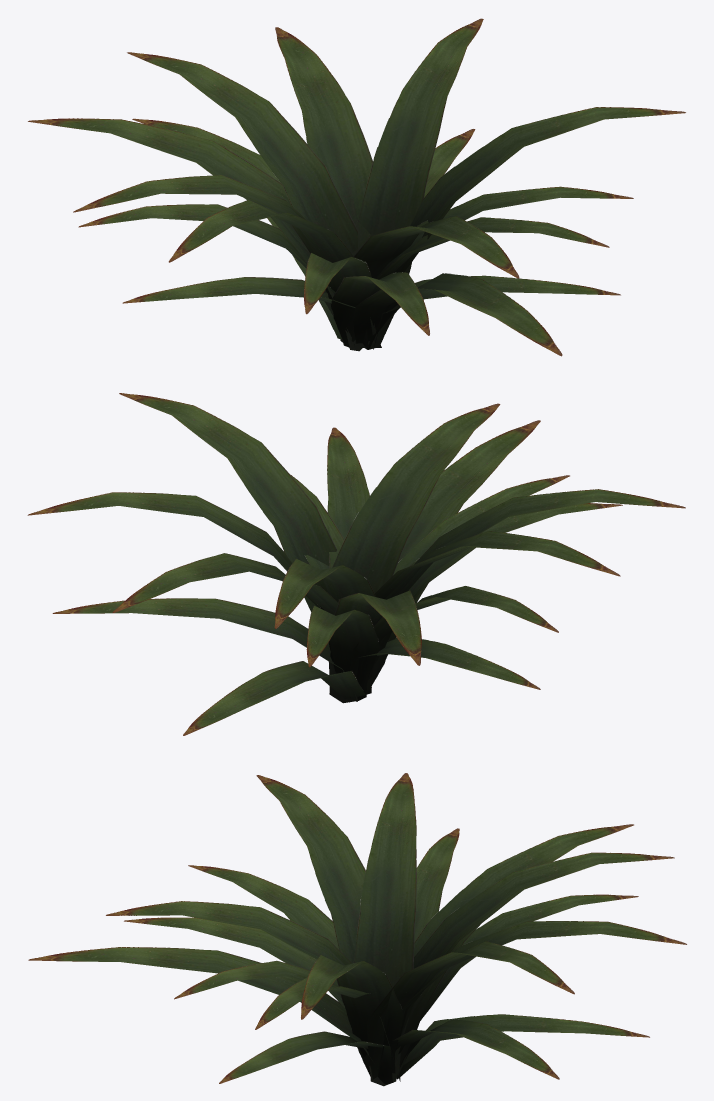
The model's file is Yucca01.FBX.
3 renders of one model, top to bottom at view 1: azimuth 30°, elevation 25°; view 2: azimuth 150°, elevation 25°; view 3: azimuth 270°, elevation 25°, orthographic. The views are drawn at different scales.
Visible parts, largest first — view 1: Yucca01; view 2: Yucca01; view 3: Yucca01.
Part boxes in pixels (x1,y1,x2,y2): Yucca01: (28, 18, 685, 356); Yucca01: (27, 393, 685, 735); Yucca01: (28, 773, 686, 1086).
Size of the model in its own units: 265 by 95.08 by 293.
